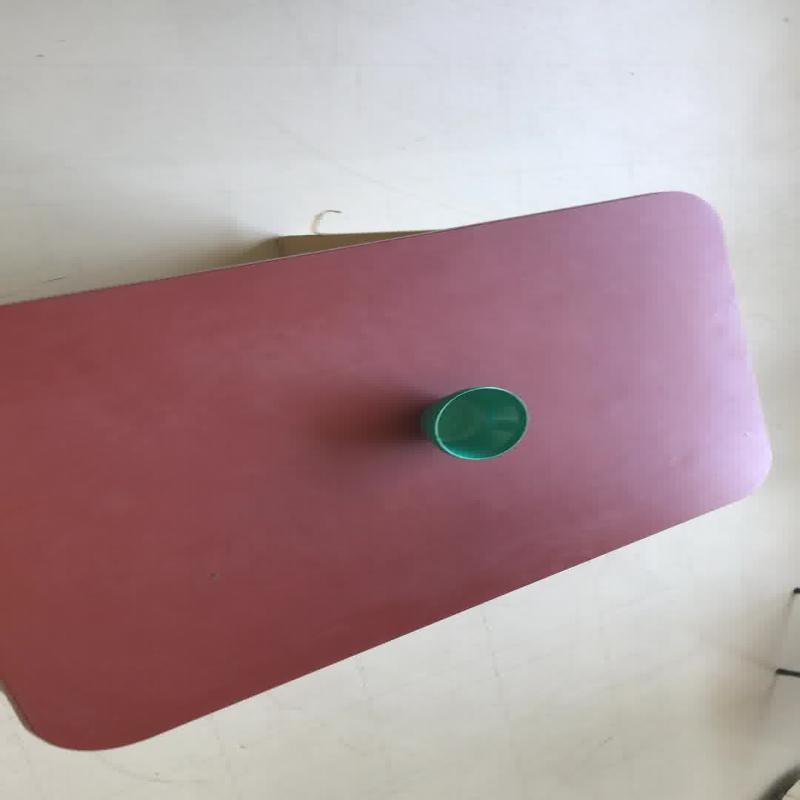bowl: (1, 188, 772, 750), (418, 385, 530, 460)
